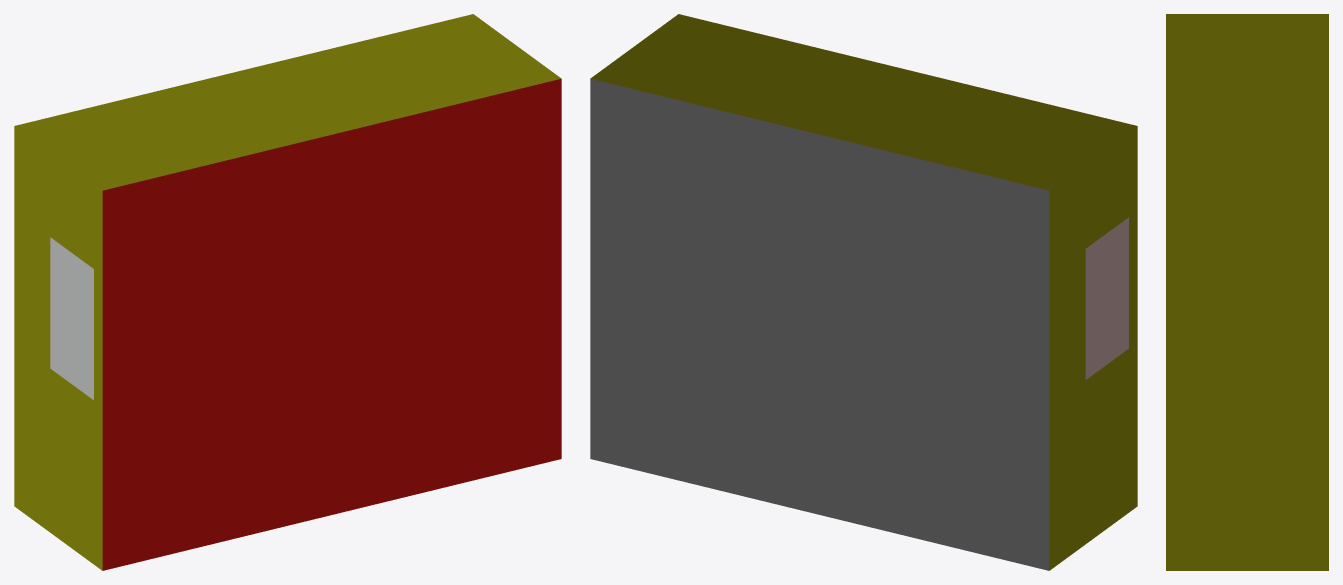
Rendered from idf.obj.
The picture shows the model from 3 angles, left to right: view 1: azimuth 30°, elevation 25°; view 2: azimuth 150°, elevation 25°; view 3: azimuth 270°, elevation 25°; orthographic projection. The views are drawn at different scales.
Bounding box in the file's own units: 7.32 × 5.79 × 2.44.
